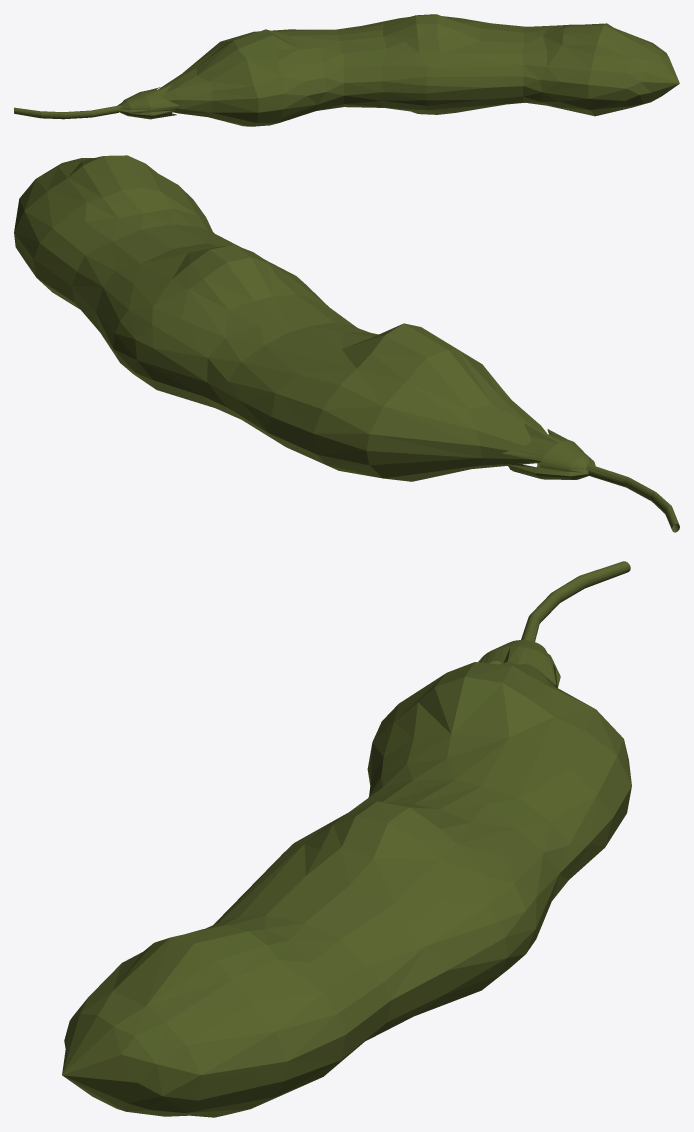
Rendered from SoybeanPod.obj.
3 renders of one model, top to bottom at view 1: azimuth 30°, elevation 25°; view 2: azimuth 150°, elevation 25°; view 3: azimuth 270°, elevation 25°, orthographic. The views are drawn at different scales.
Visible parts, largest first — view 1: fruit, sepal; view 2: fruit, sepal; view 3: fruit, sepal.
Part boxes in pixels (<box>): fruit: <box>158,14,679,126</box>; sepal: <box>14,85,180,119</box>; fruit: <box>14,155,547,481</box>; sepal: <box>502,423,679,532</box>; fruit: <box>62,661,631,1117</box>; sepal: <box>478,561,630,687</box>.
Bounding box in the file's own units: 1.09 × 0.1846 × 0.4994.
